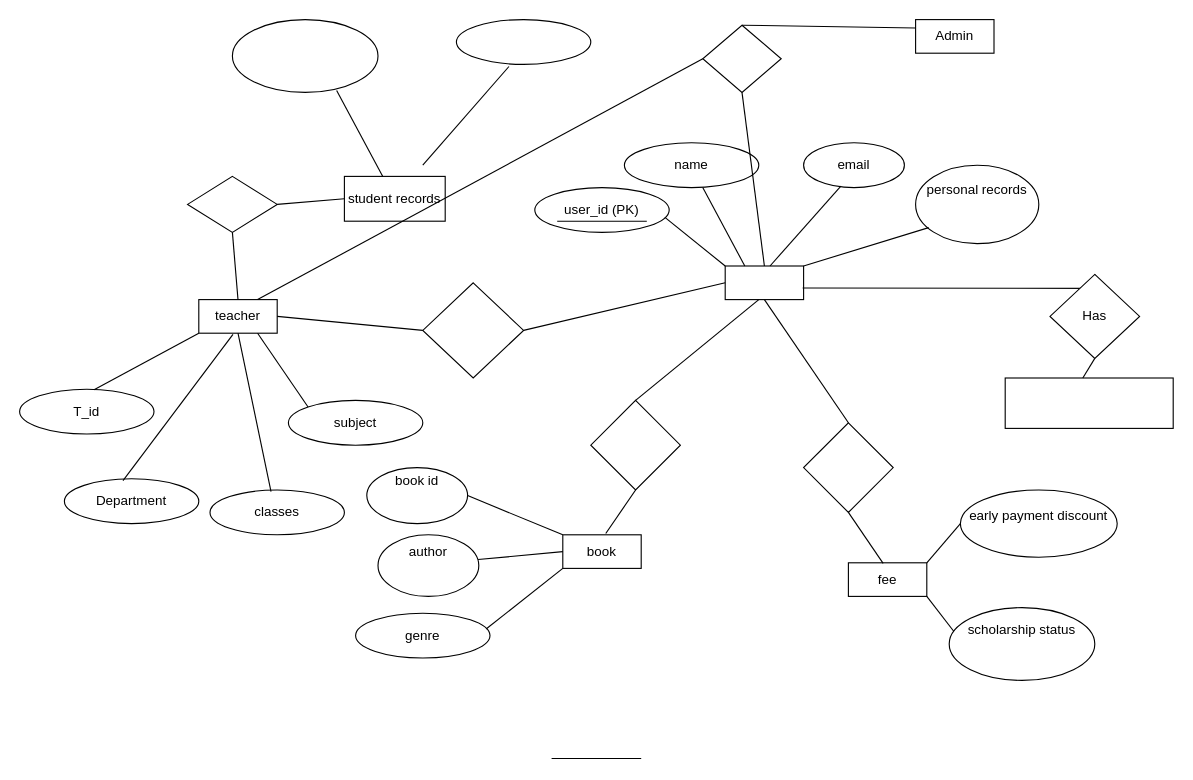
This 1193x780 diagram has some shape labels left out. The shapes that lost their labels are listed below. From the top down, each one's box as (x1, y1, x2, y2) in pixels, then its label:
(231, 18, 378, 92): class participation
(455, 18, 591, 64): previous grades
(702, 24, 781, 92): manages
(186, 175, 277, 232): inputs
(724, 265, 804, 300): student
(422, 282, 524, 378): teaches
(1004, 377, 1173, 428): grade prediction system
(590, 399, 680, 490): borrow
(802, 422, 893, 512): pays
